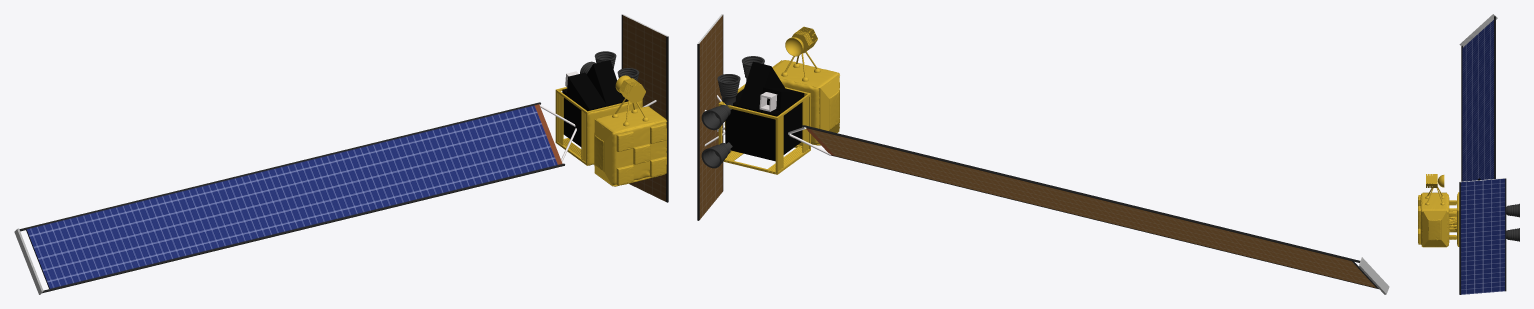
File: satellite-DeJFbyBC.glb
3 renders of one model, left to right at view 1: azimuth 30°, elevation 25°; view 2: azimuth 150°, elevation 25°; view 3: azimuth 270°, elevation 25°, orthographic. The views are drawn at different scales.
Parts seen in each view (by area): view 1: Object_1513, Object_1520, Object_47, Object_32, Object_49, Object_34, Object_30, Object_55, Object_1347, Object_57; view 2: Object_1513, Object_1520, Object_30, Object_57, Object_32, Object_49, Object_1347, Object_45, Object_7, Object_11, Object_9, Object_34; view 3: Object_1520, Object_1513, Object_1349, Object_49, Object_41, Object_53, Object_11, Object_9, Object_45, Object_47, Object_57.
Part boxes in pixels (x1,y1,x2,y2): Object_1513: (17, 102, 564, 294); Object_1520: (621, 15, 668, 202); Object_47: (612, 120, 666, 184); Object_32: (586, 60, 623, 105); Object_49: (596, 106, 666, 134); Object_34: (567, 72, 606, 109); Object_30: (562, 88, 628, 146); Object_55: (587, 101, 641, 165); Object_1347: (594, 119, 612, 185); Object_57: (555, 87, 642, 165); Object_1513: (802, 125, 1386, 294); Object_1520: (697, 15, 723, 220); Object_30: (725, 89, 804, 161); Object_57: (718, 84, 810, 174); Object_32: (738, 61, 785, 110); Object_49: (773, 60, 839, 89); Object_1347: (820, 74, 839, 144); Object_45: (779, 78, 819, 144); Object_7: (717, 74, 740, 105); Object_11: (701, 142, 732, 168); Object_9: (701, 104, 731, 130); Object_34: (762, 87, 803, 110); Object_1520: (1459, 178, 1506, 294); Object_1513: (1459, 14, 1497, 181); Object_1349: (1422, 210, 1446, 246); Object_49: (1421, 193, 1447, 211); Object_41: (1428, 219, 1440, 240); Object_53: (1449, 208, 1456, 232); Object_11: (1506, 228, 1519, 241); Object_9: (1506, 203, 1519, 217); Object_45: (1447, 194, 1449, 246); Object_47: (1420, 193, 1422, 245); Object_57: (1458, 192, 1459, 246).
Bounding box in the file's own units: 0.2656 × 0.0672 × 0.0551.
Materials: 9 (1 with a texture image).
